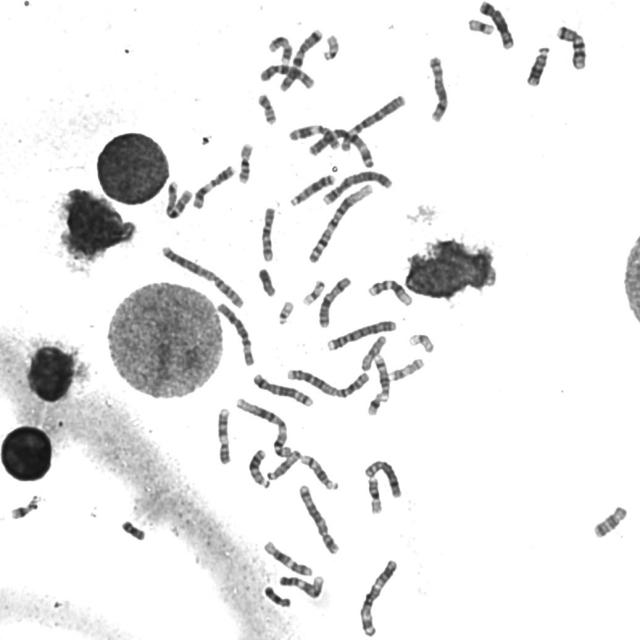A1: (305, 180, 374, 265), (232, 394, 293, 460)
A2: (158, 242, 246, 310), (283, 364, 371, 399)
A3: (357, 556, 399, 638), (303, 124, 377, 168)
B4: (319, 167, 394, 206), (324, 317, 397, 352)
B5: (296, 480, 341, 556), (250, 370, 315, 408), (478, 1, 514, 50)
C10: (256, 60, 316, 91), (258, 202, 277, 264)
C11: (190, 162, 236, 210), (286, 122, 342, 152)
C12: (261, 537, 314, 577), (365, 276, 414, 307)
C6: (337, 91, 407, 152), (214, 299, 256, 367)
C7: (276, 25, 324, 92), (554, 24, 587, 71), (162, 178, 194, 220)
C8: (425, 51, 450, 125), (362, 457, 403, 500)
C9: (276, 572, 325, 599), (215, 404, 232, 466)
D13: (287, 170, 336, 208), (246, 446, 272, 489), (526, 46, 550, 88)
D14: (298, 452, 339, 491), (373, 352, 392, 402)
D15: (265, 446, 302, 482), (359, 332, 388, 372)
E16: (235, 139, 255, 185), (365, 476, 384, 516)
E17: (387, 354, 426, 382), (267, 36, 293, 66)
E18: (591, 502, 629, 539), (261, 583, 292, 609)
F19: (300, 277, 326, 307), (406, 330, 436, 354), (467, 19, 495, 36)
F20: (254, 90, 278, 126), (120, 520, 146, 542)
G21: (7, 492, 39, 520), (364, 389, 385, 417)
G22: (320, 30, 340, 61), (275, 298, 295, 326)
X: (315, 273, 353, 329)
Y: (256, 265, 277, 298)
